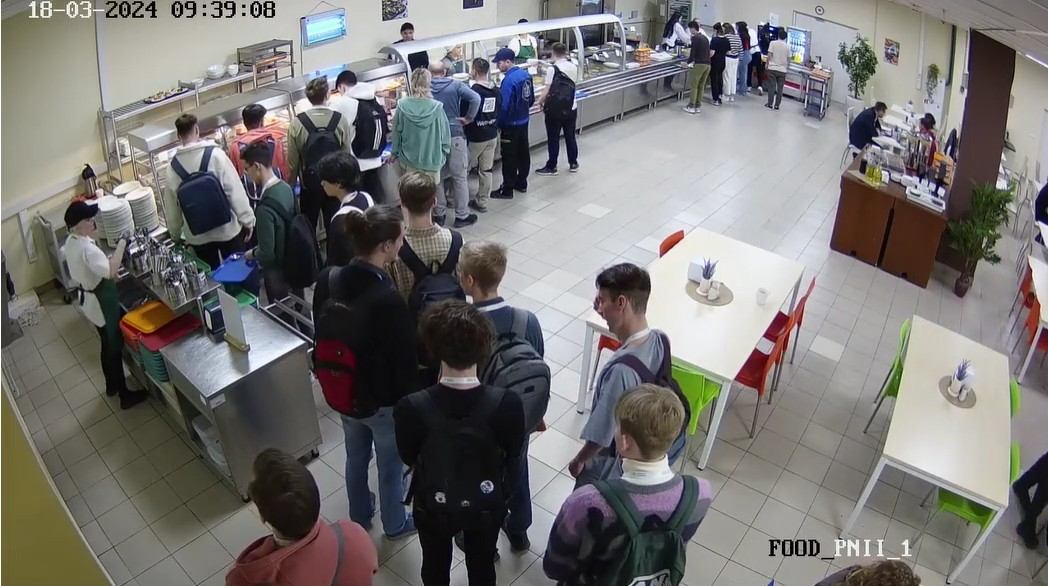Na_Kasse: (682, 25, 705, 112), (765, 28, 789, 109), (722, 18, 741, 107), (711, 23, 724, 103), (740, 15, 752, 95)
Ne_v_Ocheredi: (307, 195, 414, 537), (398, 301, 526, 586), (565, 380, 707, 584), (571, 251, 687, 468), (231, 439, 377, 586), (454, 234, 551, 436), (393, 164, 454, 300), (811, 540, 927, 586), (303, 152, 364, 224)
Personal: (54, 189, 141, 406), (504, 10, 539, 51), (662, 7, 682, 46), (440, 38, 466, 63), (396, 19, 418, 40)
Vybiraet: (225, 134, 302, 318), (151, 108, 233, 266), (431, 63, 476, 221), (334, 69, 381, 183), (495, 50, 533, 191), (395, 61, 444, 169), (540, 45, 578, 176), (464, 63, 495, 209), (290, 75, 337, 163), (236, 96, 283, 169)
Za_Stolom: (838, 101, 887, 165), (1026, 163, 1048, 250), (914, 113, 937, 146)
